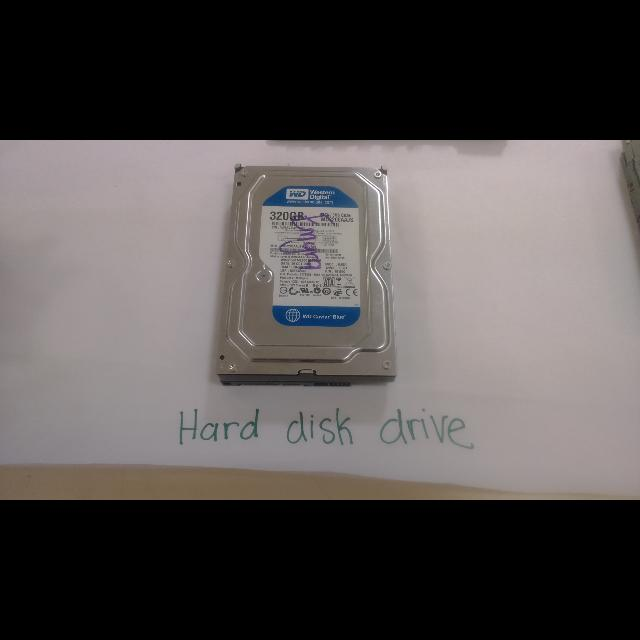HDD: (214, 166, 398, 389)
